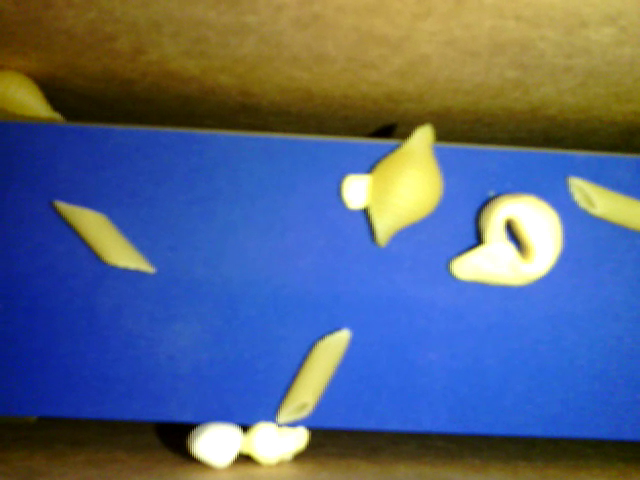penne: (50, 197, 157, 276), (276, 325, 354, 426), (568, 175, 639, 234)
shell: (363, 121, 443, 251), (2, 68, 67, 127)
tortellini: (447, 191, 565, 288)
